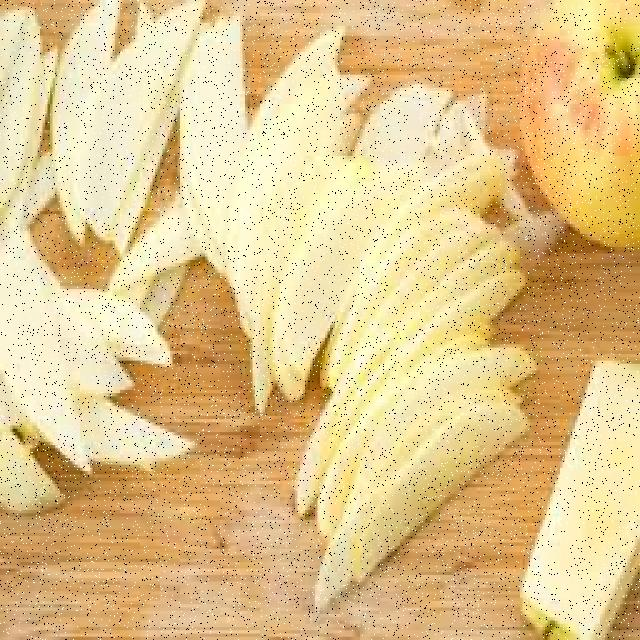Apple: (519, 353, 640, 640), (517, 0, 640, 247)
